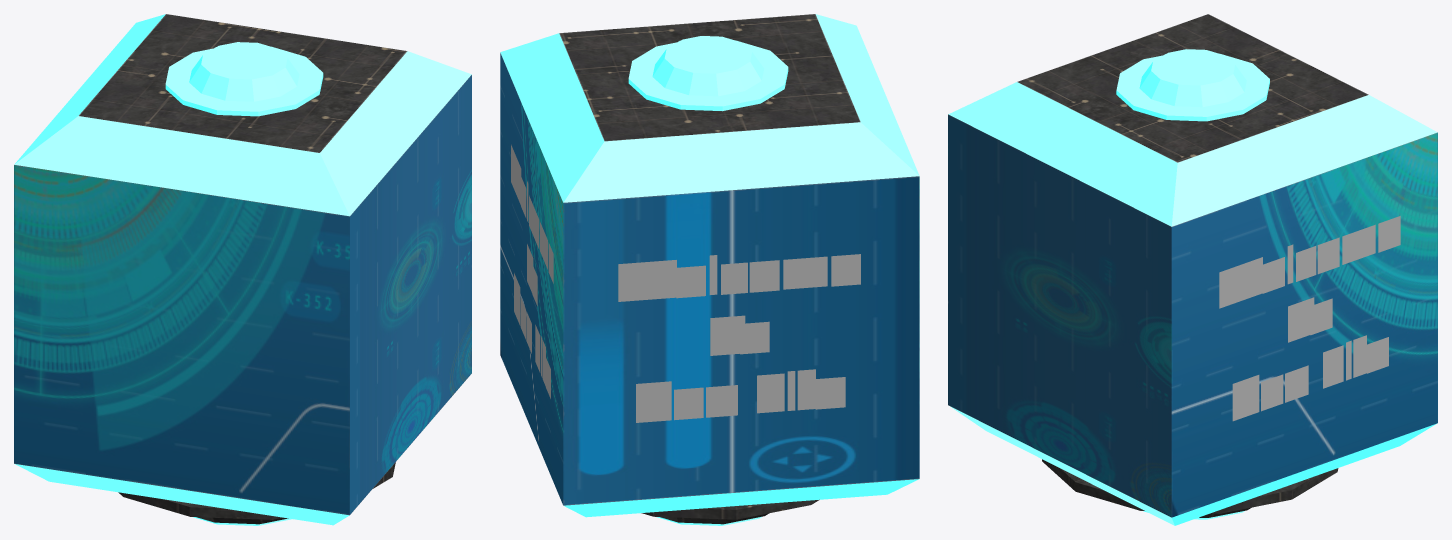
The model's file is sealife bill board.fbx.
3 renders of one model, left to right at view 1: azimuth 30°, elevation 25°; view 2: azimuth 150°, elevation 25°; view 3: azimuth 270°, elevation 25°, orthographic. The views are drawn at different scales.
Visible parts, largest first — view 1: sealife_bill_board; view 2: sealife_bill_board, Text__TMP_, Text__TMP___1_; view 3: sealife_bill_board, Text__TMP___1_.
Part boxes in pixels (bbox=[...]): sealife_bill_board: bbox=[14, 14, 471, 525]; sealife_bill_board: bbox=[500, 14, 919, 525]; Text__TMP_: bbox=[618, 254, 860, 422]; Text__TMP___1_: bbox=[511, 144, 553, 398]; sealife_bill_board: bbox=[948, 14, 1437, 525]; Text__TMP___1_: bbox=[1219, 216, 1400, 421].
Bounding box in the file's own units: 293 × 279 × 293.
